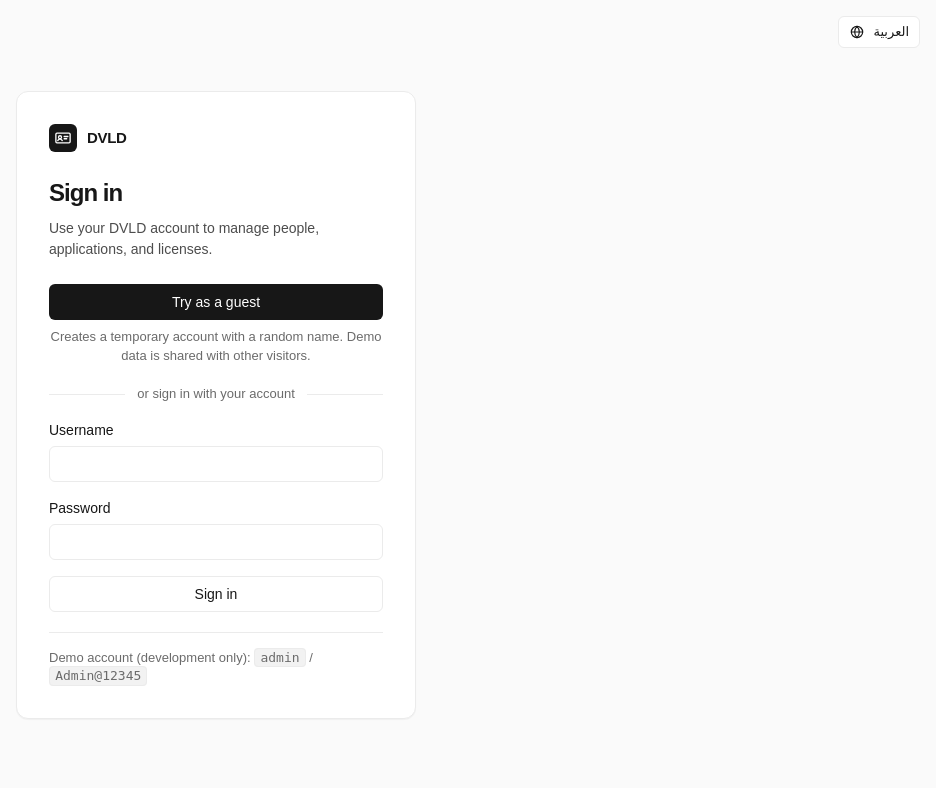
Test case: Login › explains the limit when there are too many guest sign-ins
Click the button "Try as a guest": click(216, 302) [49,284,383,320]
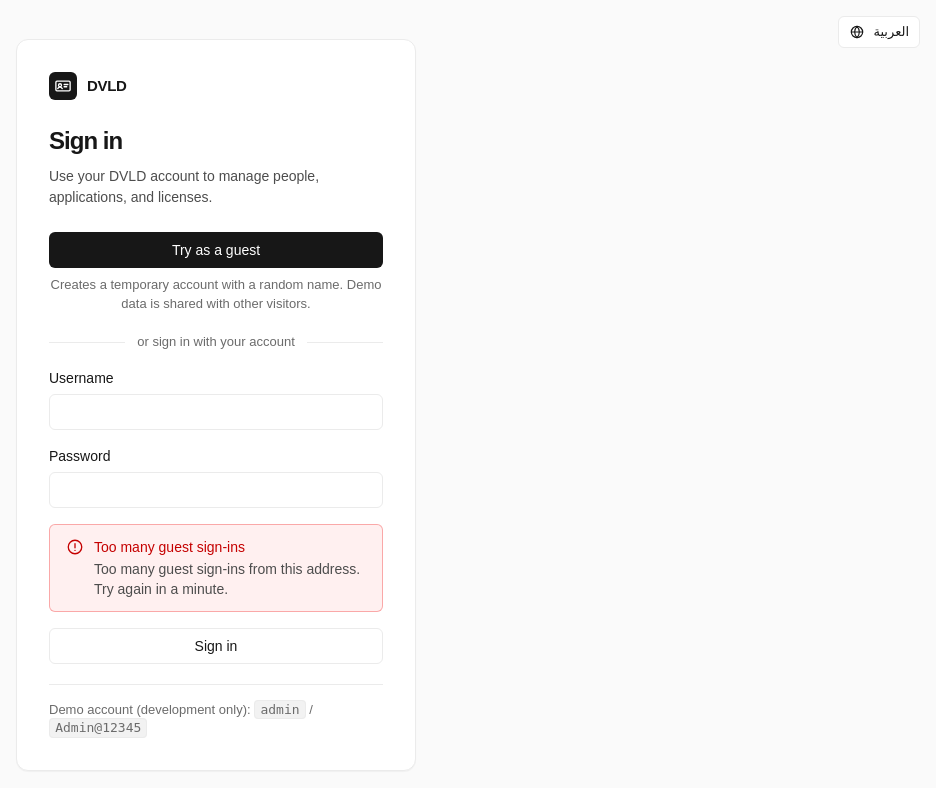
Check: the message shows "Too many guest sign-ins", box [94,539,245,555]
